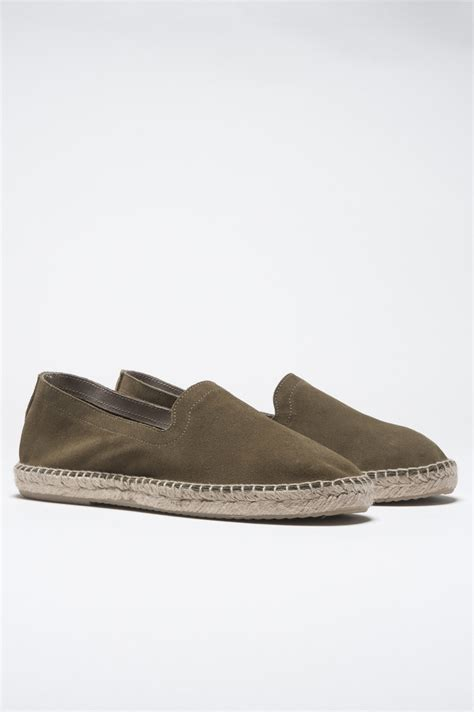gamuza: (16, 368, 450, 485)
